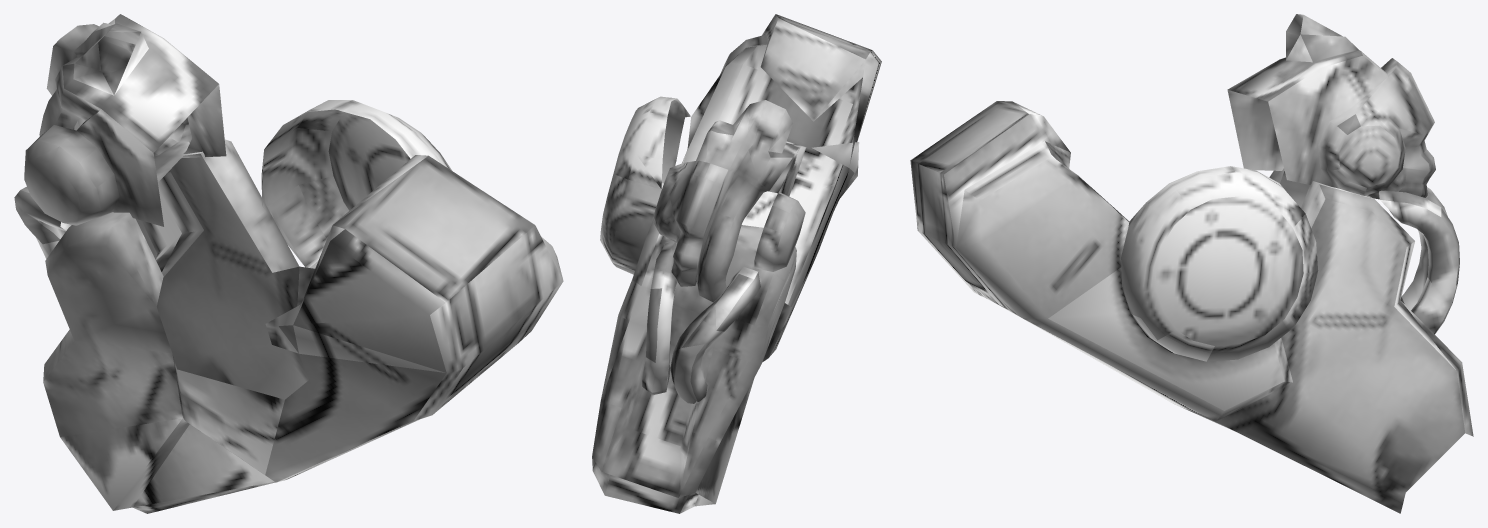
File: l_shin.glb
3 views of the same model, side by side, from view 1: azimuth 30°, elevation 25°; view 2: azimuth 150°, elevation 25°; view 3: azimuth 270°, elevation 25° (orthographic). The views are drawn at different scales.
Parts seen in each view (by area): view 1: l_shin; view 2: l_shin; view 3: l_shin.
Part boxes in pixels (<box>): l_shin: <box>14,14,563,513</box>; l_shin: <box>592,14,881,513</box>; l_shin: <box>910,14,1473,513</box>.
Bounding box in the file's own units: 1.55 × 2.4 × 2.73.
3 materials, 3 textured.
